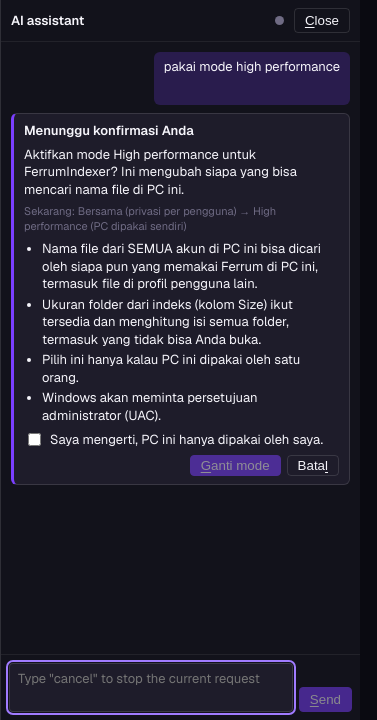
Test: IndexerCard: mode change › un-ticking disables the button again
Click the checkbox with test id "indexer-ack" at (34, 440), box x1=28 y1=433 x2=41 y2=446
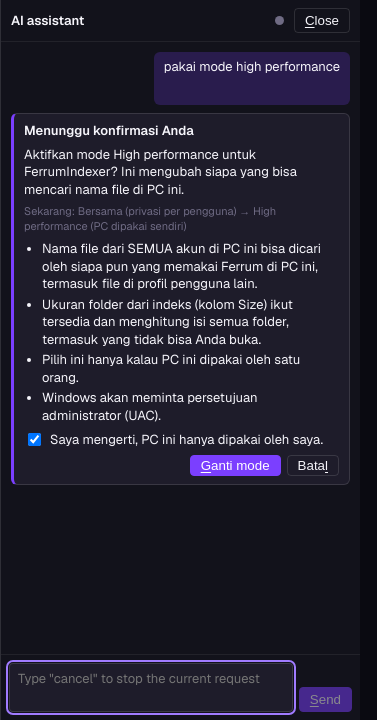
Expected: the button with test id "indexer-apply" is enabled, x1=190 y1=455 x2=281 y2=476
Click the checkbox with test id "indexer-ack" at (34, 440), box x1=28 y1=433 x2=41 y2=446
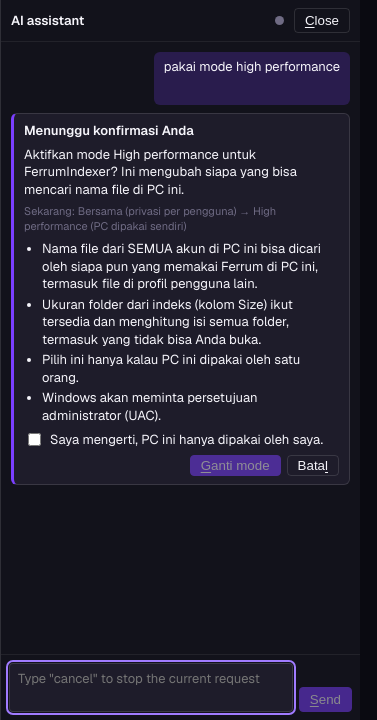
Expected: the button with test id "indexer-apply" is disabled, x1=190 y1=455 x2=281 y2=476
